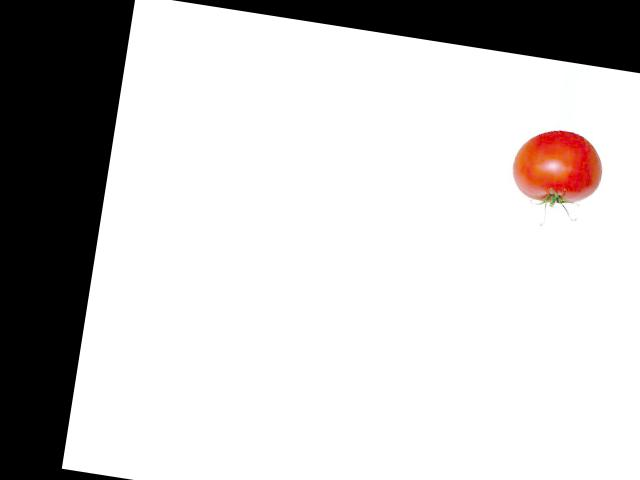tomato: (507, 123, 607, 209)
